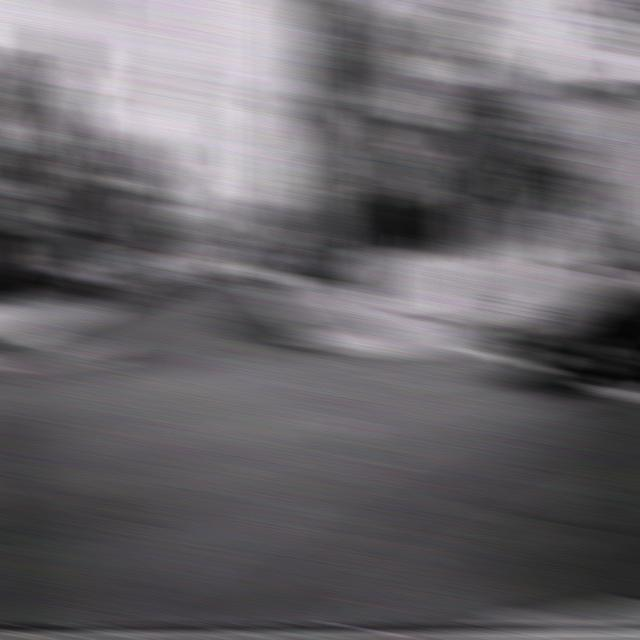speedLimit25: (299, 146, 342, 198)
